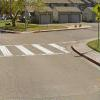Crosswalk: (2, 35, 72, 61)
